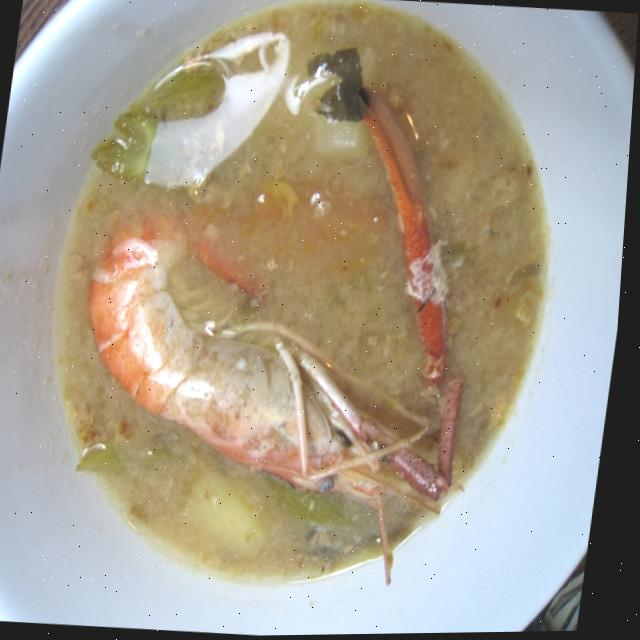汤锅炖物: (21, 9, 574, 578)
